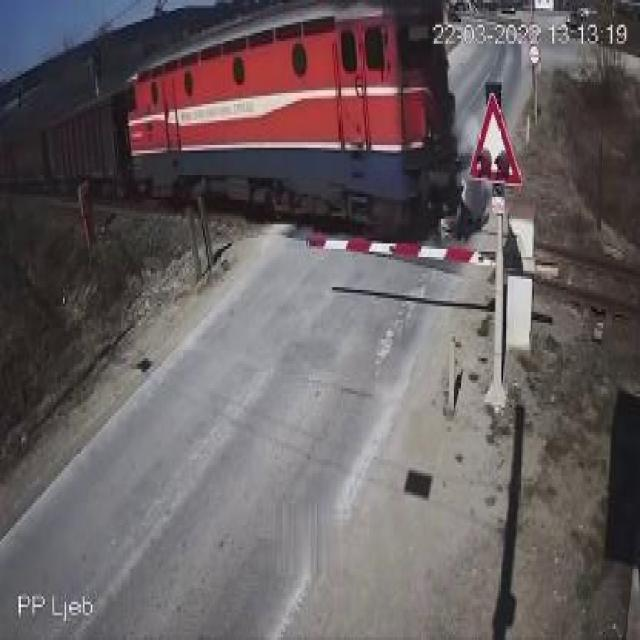accident: (118, 0, 497, 257)
